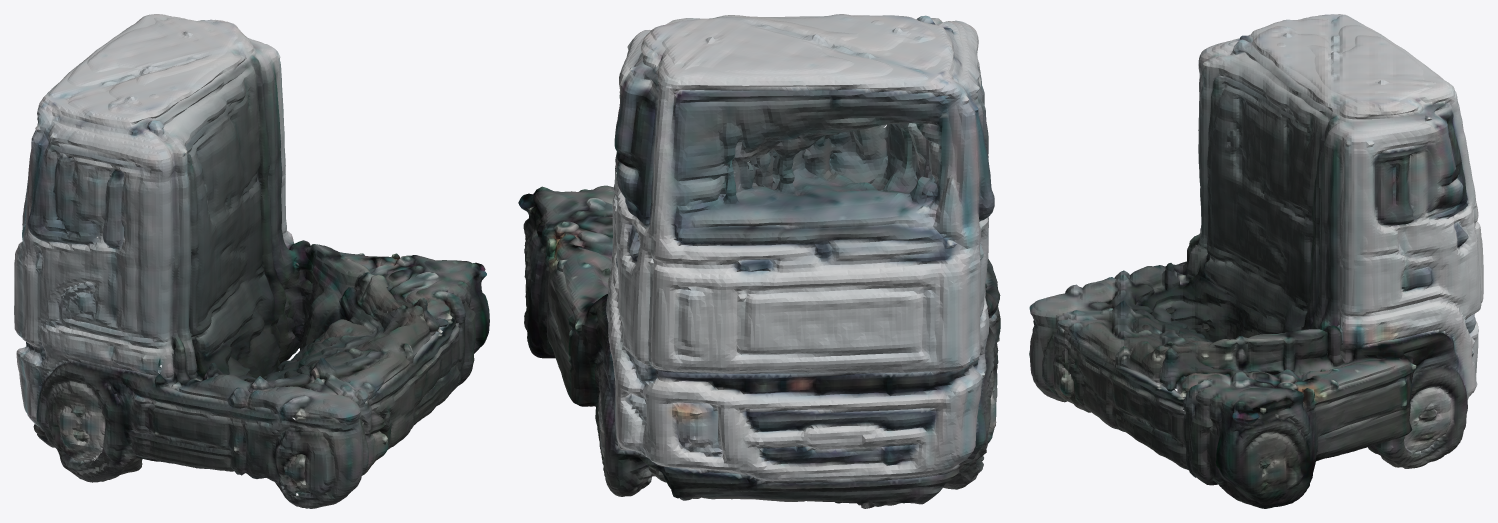
Rendered from truck-rear-quarter.glb.
3 views of the same model, side by side, from view 1: azimuth 30°, elevation 25°; view 2: azimuth 150°, elevation 25°; view 3: azimuth 270°, elevation 25° (orthographic). The views are drawn at different scales.
Visible parts, largest first — view 1: world; view 2: world; view 3: world.
Part boxes in pixels (x1,y1,x2,y2): world: [14, 14, 489, 508]; world: [518, 14, 1000, 508]; world: [1029, 14, 1483, 508].
Bounding box in the file's own units: 1.09 × 0.9171 × 1.05.
